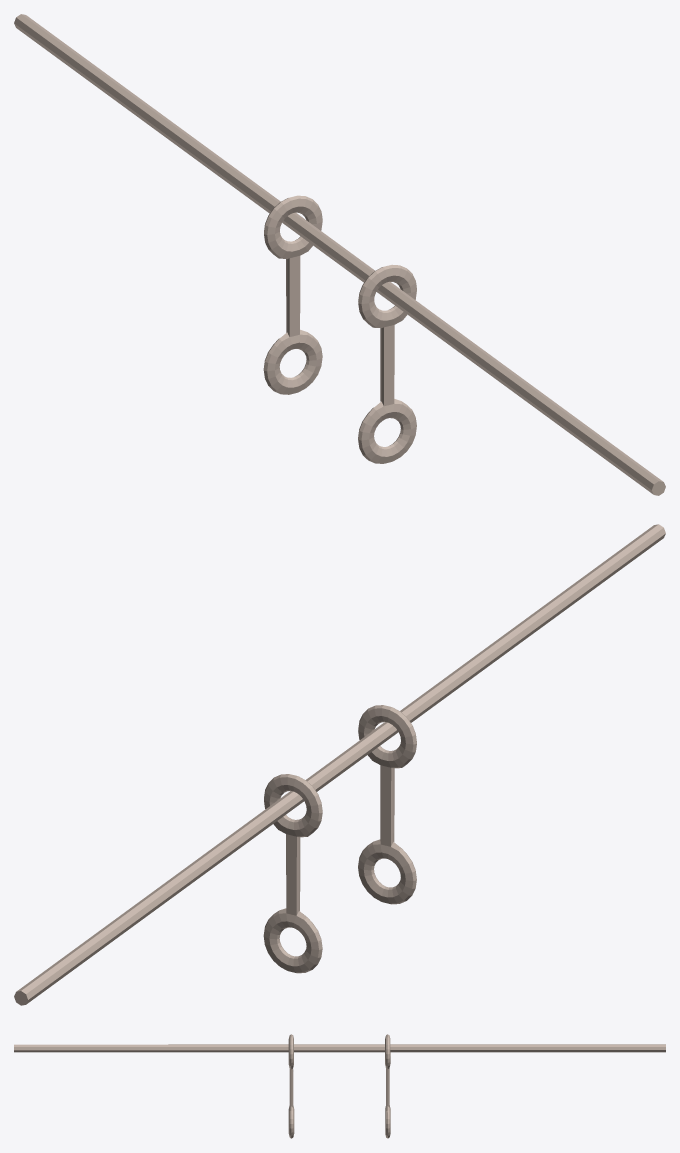
The model's file is meathang_rack.fbx.
The picture shows the model from 3 angles, top to bottom: view 1: azimuth 30°, elevation 25°; view 2: azimuth 150°, elevation 25°; view 3: azimuth 270°, elevation 25°; orthographic projection. The views are drawn at different scales.
Parts seen in each view (by area): view 1: Torus; view 2: Torus; view 3: Torus.
Boxes of the visible parts, bbox=[...] form: Torus: bbox=[14, 14, 665, 495]; Torus: bbox=[14, 524, 665, 1005]; Torus: bbox=[14, 1034, 665, 1138].
Bounding box in the file's own units: 135 × 433 × 2537.
